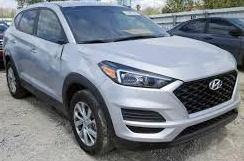SUV: (5, 5, 240, 155)
